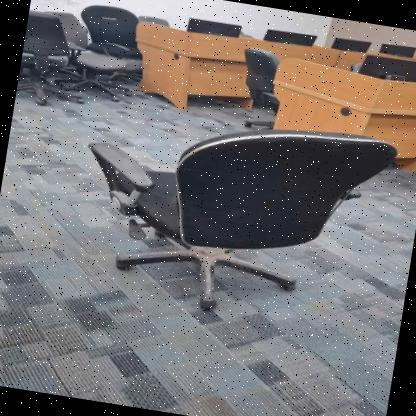chair: (59, 88, 405, 342)
